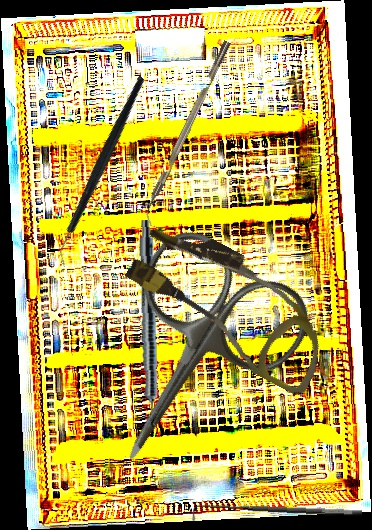Cannula: (113, 210, 348, 399)
Chopper: (6, 75, 199, 268), (137, 40, 240, 227)
Handpiece: (134, 219, 161, 436)
Hook Surgical: (191, 499, 363, 530)
Iris Scissors: (54, 216, 324, 505)
